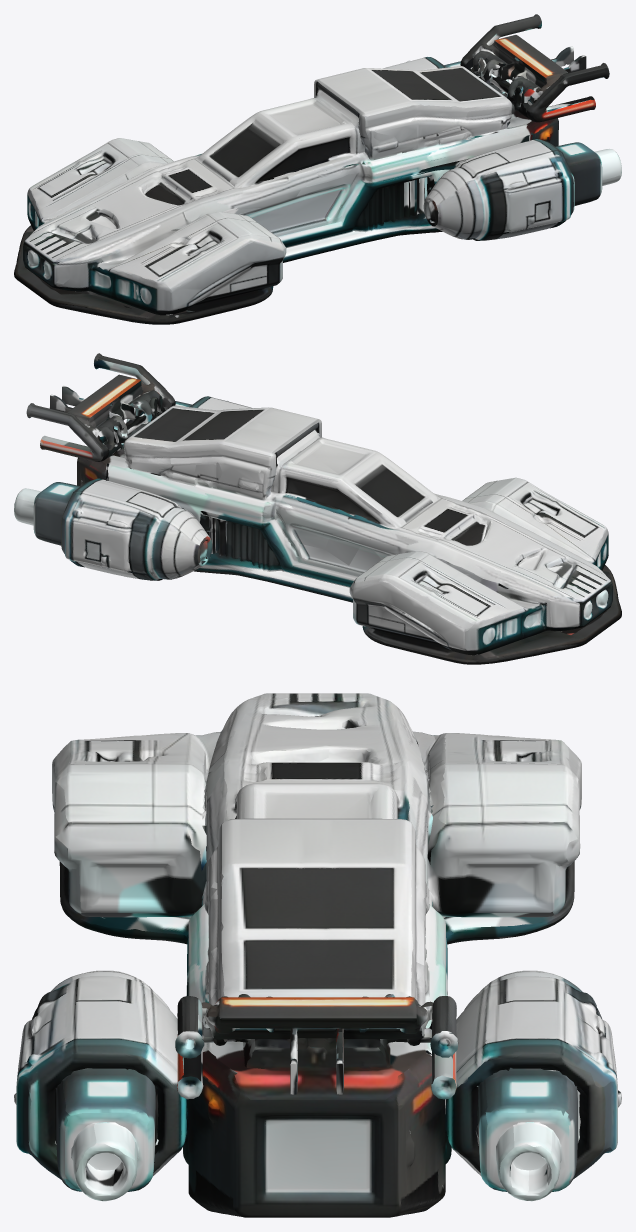
Rendered from dbsbt.glb.
3 renders of one model, top to bottom at view 1: azimuth 30°, elevation 25°; view 2: azimuth 150°, elevation 25°; view 3: azimuth 270°, elevation 25°, orthographic. The views are drawn at different scales.
Parts seen in each view (by area): view 1: Spaceship; view 2: Spaceship; view 3: Spaceship.
Boxes of the visible parts, x1,y1,x2,y2 form: Spaceship: [14, 14, 621, 324]; Spaceship: [14, 353, 621, 664]; Spaceship: [14, 693, 621, 1217].
Size of the model in its own units: 0.9 by 0.2164 by 0.4577.
1 material, 1 textured.
